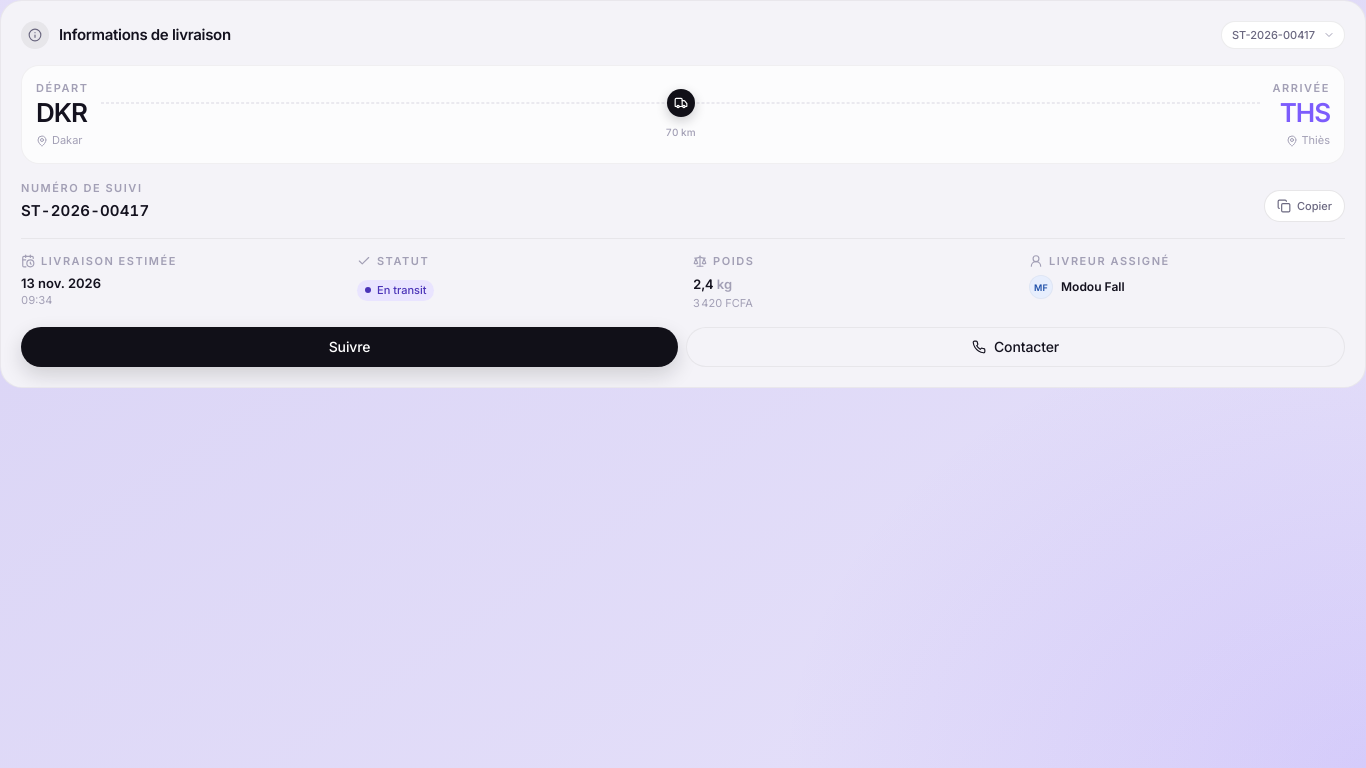
Scenario: OrderInfo › copie le numéro de suivi dans le presse-papiers
Click the button "Copier" at (1304, 206), box [1264,190,1345,222]
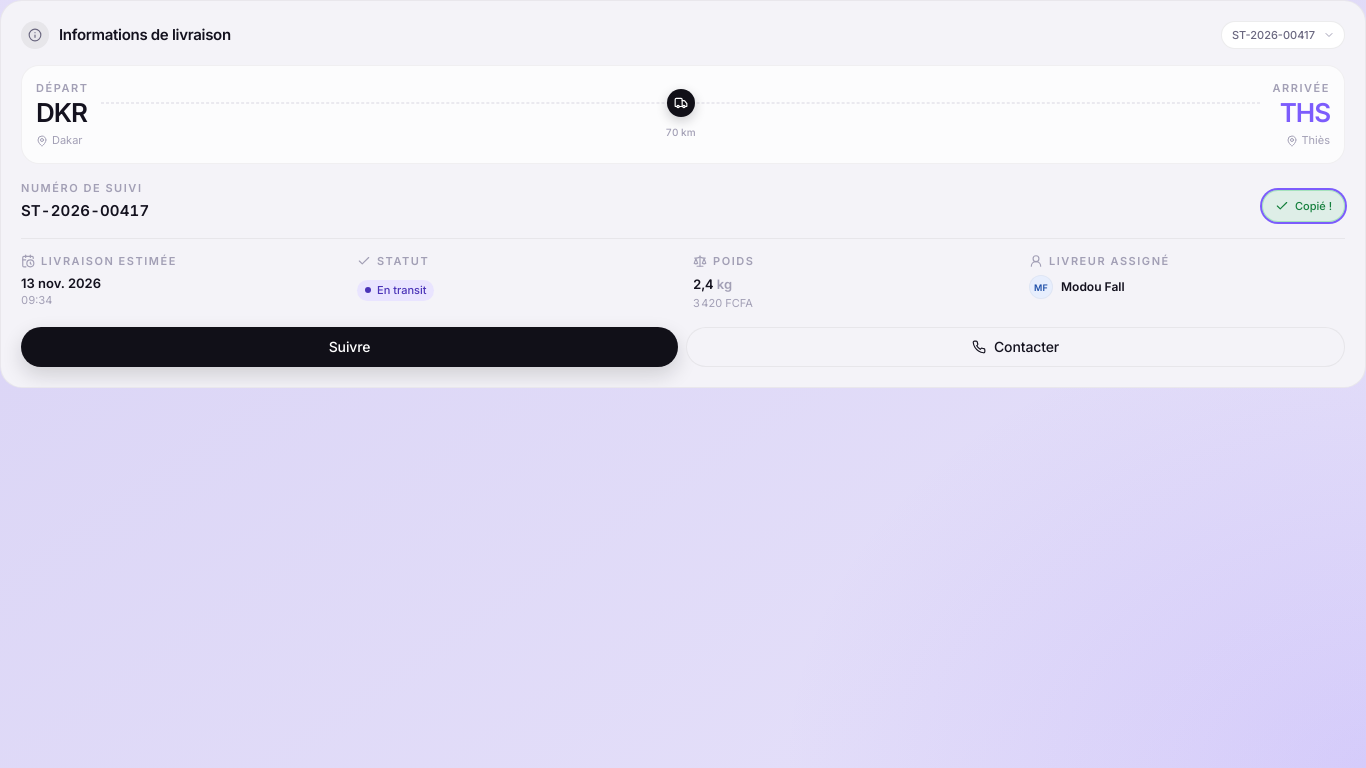
Expected: the button "Copié !" is shown, [1262,190,1345,222]
